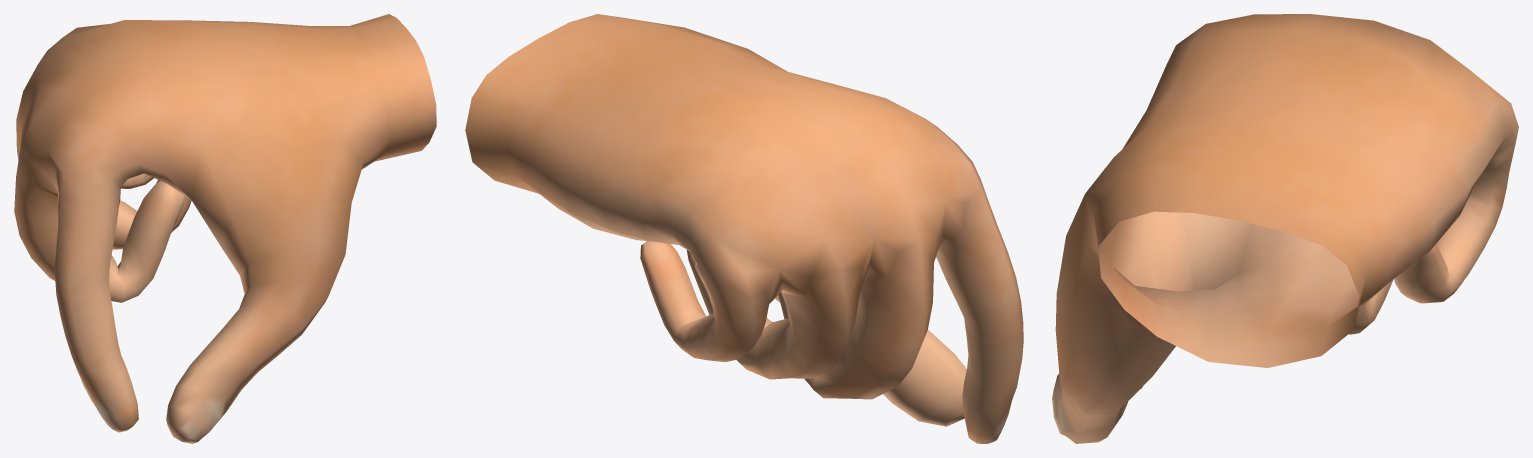
Rendered from H_tweeze_close.fbx.
3 renders of one model, left to right at view 1: azimuth 30°, elevation 25°; view 2: azimuth 150°, elevation 25°; view 3: azimuth 270°, elevation 25°, orthographic. The views are drawn at different scales.
Visible parts, largest first — view 1: H_tweeze_close; view 2: H_tweeze_close; view 3: H_tweeze_close.
Part boxes in pixels (x1,y1,x2,y2): H_tweeze_close: (14, 14, 436, 443); H_tweeze_close: (465, 14, 1023, 443); H_tweeze_close: (1052, 14, 1518, 443).
Bounding box in the file's own units: 13.74 × 10.86 × 10.73.
Materials: 1 (1 with a texture image).
